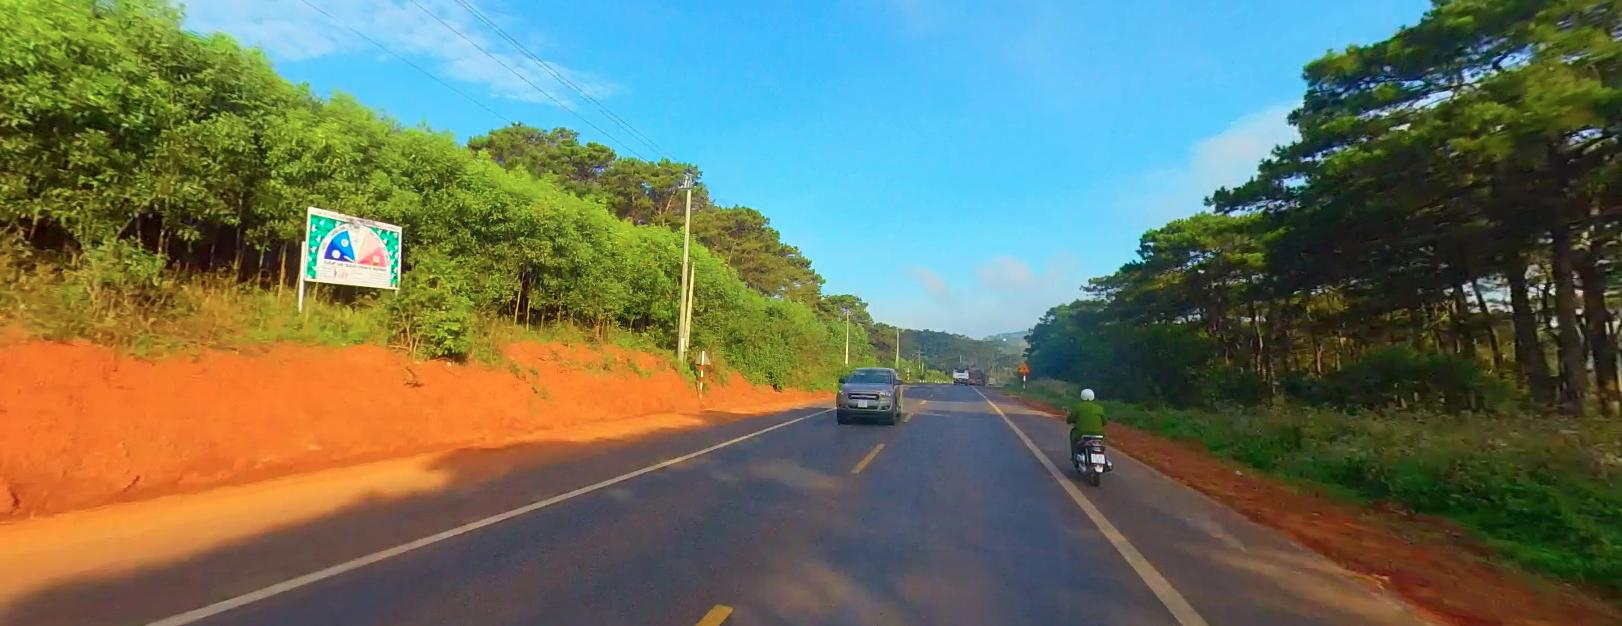Nguy hiem: (1017, 360, 1029, 370), (1018, 361, 1029, 371), (1019, 362, 1029, 371)
